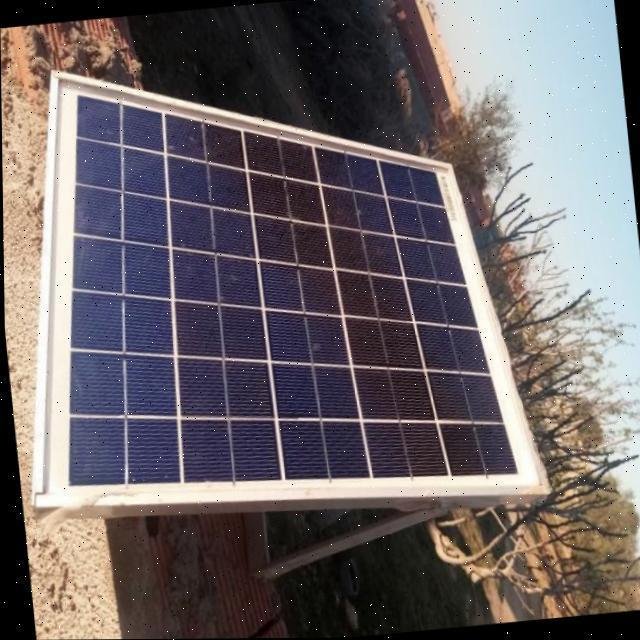Normal Solar Panel: (1, 26, 544, 543)
